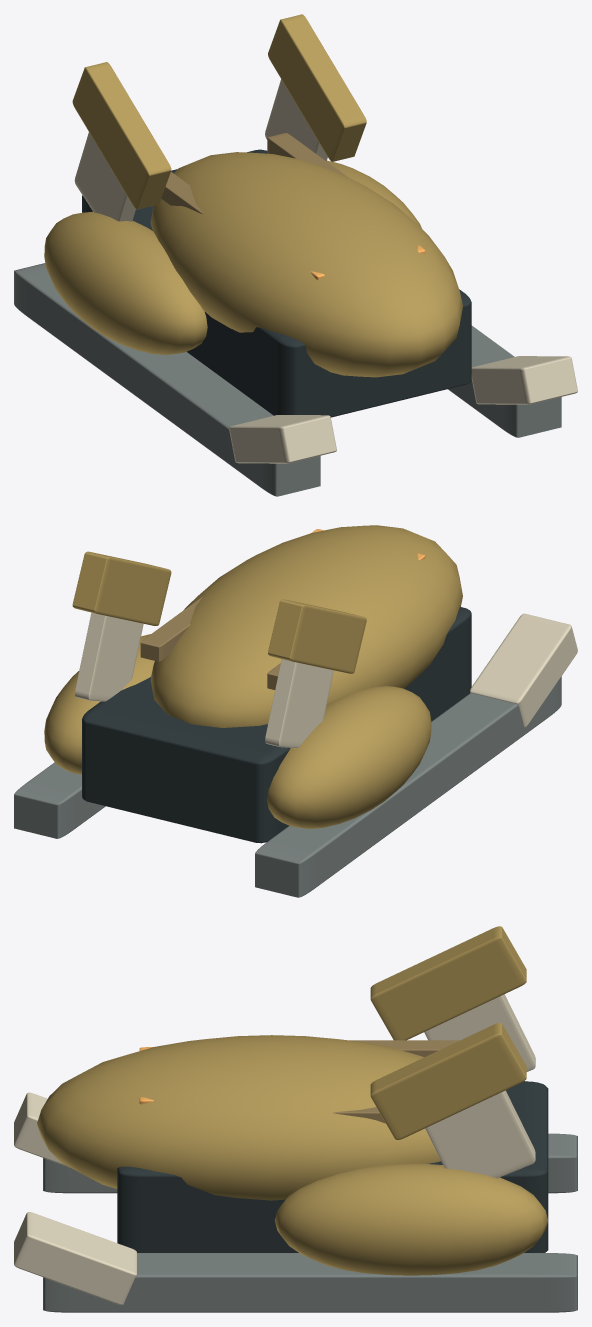
Rendered from warden-machine-hotshoe-v1.glb.
3 renders of one model, top to bottom at view 1: azimuth 30°, elevation 25°; view 2: azimuth 150°, elevation 25°; view 3: azimuth 270°, elevation 25°, orthographic.
Parts seen in each view (by area): view 1: shell / orb (×3), steel / box (×2), shell / box (×2), dark / box, trim / box (×4), brass / box (×2); view 2: shell / orb (×3), dark / box, steel / box (×2), trim / box (×3), shell / box (×2), brass / box; view 3: shell / orb (×2), steel / box (×2), shell / box (×2), trim / box (×4), dark / box, brass / box.
Boxes of the visible parts, <box> form: shell / orb (×3): <box>44,152,462,377</box>; steel / box (×2): <box>14,263,561,496</box>; shell / box (×2): <box>72,14,366,209</box>; dark / box: <box>82,149,471,417</box>; trim / box (×4): <box>74,79,577,463</box>; brass / box (×2): <box>161,133,348,214</box>; shell / orb (×3): <box>44,525,462,828</box>; dark / box: <box>82,607,471,843</box>; steel / box (×2): <box>14,676,561,897</box>; trim / box (×3): <box>74,612,577,748</box>; shell / box (×2): <box>72,551,366,673</box>; brass / box: <box>140,596,203,661</box>; shell / orb (×2): <box>37,1035,548,1275</box>; steel / box (×2): <box>43,1133,577,1312</box>; shell / box (×2): <box>370,926,526,1139</box>; trim / box (×4): <box>14,994,535,1304</box>; dark / box: <box>117,1081,548,1252</box>; brass / box: <box>350,1040,458,1056</box>.
Bounding box in the file's own units: 0.1238 × 0.0948 × 0.185.
